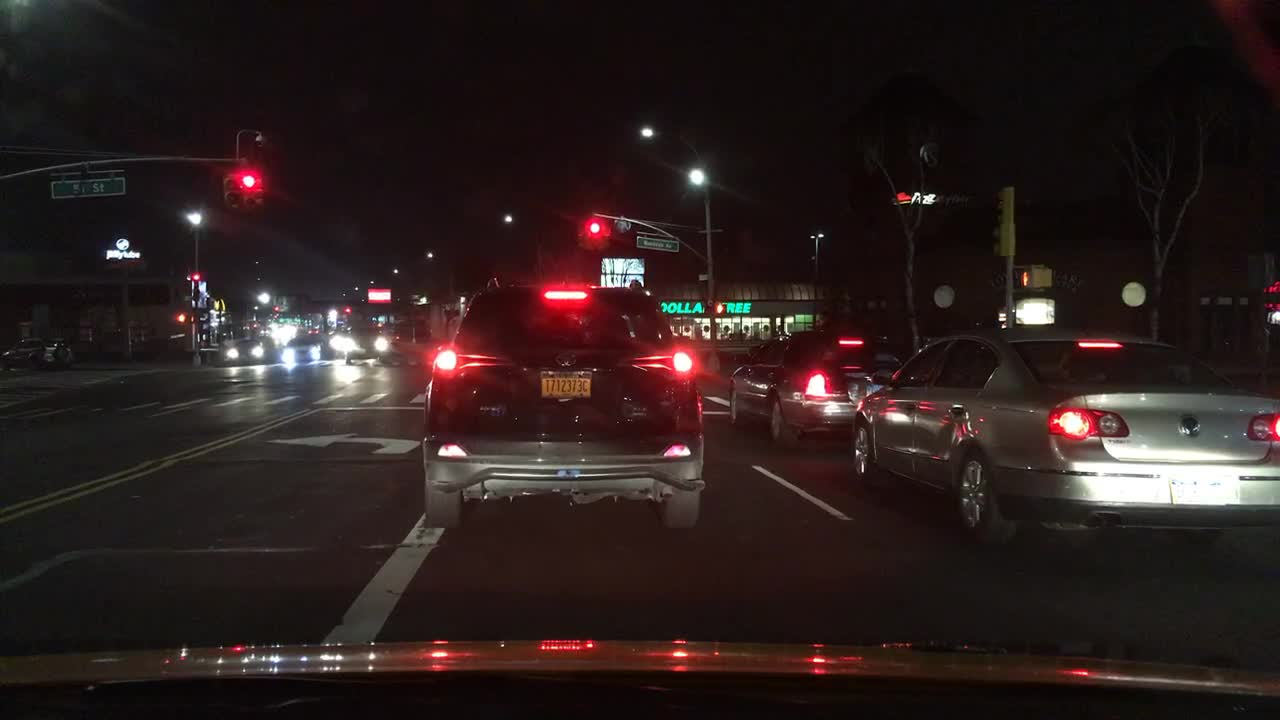car: (850, 320, 1279, 545), (422, 278, 707, 529), (726, 328, 905, 454), (0, 333, 73, 372), (340, 315, 390, 365), (221, 334, 276, 362), (281, 332, 328, 362)
traffic light: (235, 170, 262, 207), (1018, 267, 1054, 289), (217, 171, 237, 209), (574, 215, 589, 247), (585, 219, 602, 247), (601, 210, 615, 243), (712, 300, 725, 318), (173, 313, 187, 323)
traffic sign: (48, 176, 127, 198), (635, 235, 681, 251)
